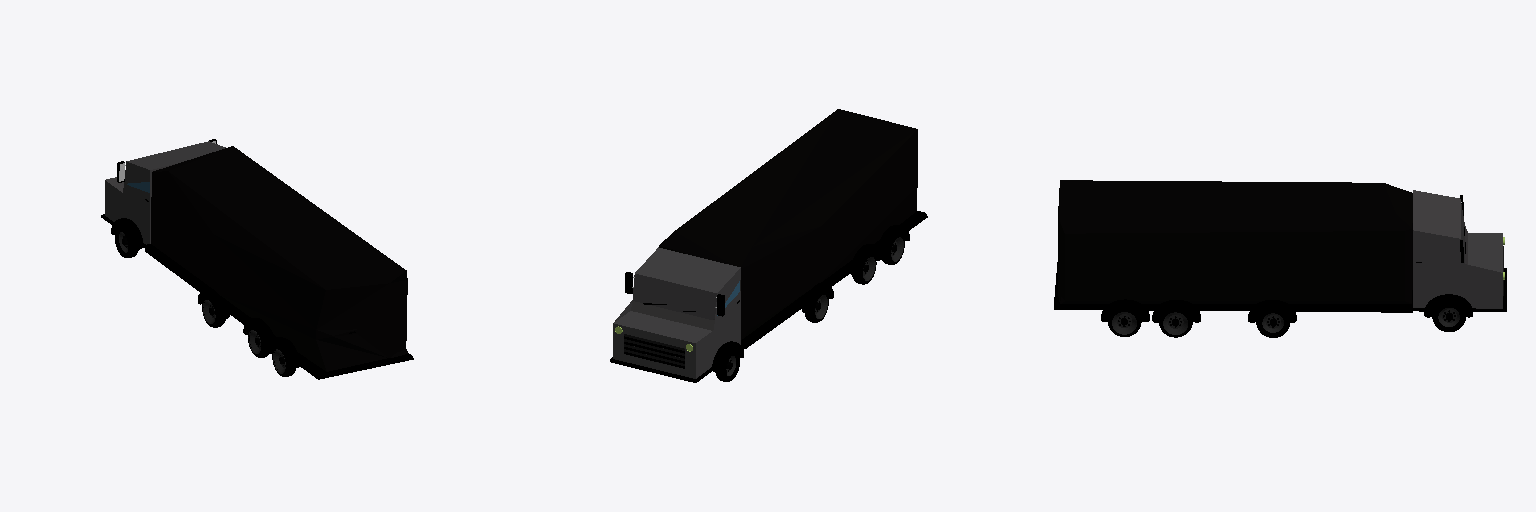
File: tır.obj
3 views of the same model, side by side, from view 1: azimuth 30°, elevation 25°; view 2: azimuth 150°, elevation 25°; view 3: azimuth 270°, elevation 25° (orthographic).
Visible parts, largest first — view 1: Kasa_Cube, Gövde_Cube.001, Cube_Cube.006; view 2: Kasa_Cube, Gövde_Cube.001, Cube_Cube.006, ızgara_Cube.003, Izgara_Boşlu_Cube.004; view 3: Kasa_Cube, Gövde_Cube.001, Cube_Cube.006, Çamurluk.005_Torus.003, Çamurluk.004_Torus.012, Çamurluk.009_Torus.018, Çamurluk.008_Torus.016.
Part boxes in pixels (left/top/right/bottom): Kasa_Cube: left=151, top=146, right=407, bottom=371; Gövde_Cube.001: left=105, top=141, right=225, bottom=244; Cube_Cube.006: left=145, top=244, right=413, bottom=379; Kasa_Cube: left=659, top=109, right=917, bottom=339; Gövde_Cube.001: left=613, top=247, right=740, bottom=378; Cube_Cube.006: left=741, top=211, right=927, bottom=348; ızgara_Cube.003: left=624, top=334, right=684, bottom=365; Izgara_Boşlu_Cube.004: left=624, top=336, right=684, bottom=368; Kasa_Cube: left=1058, top=180, right=1412, bottom=303; Gövde_Cube.001: left=1413, top=190, right=1502, bottom=308; Cube_Cube.006: left=1054, top=262, right=1412, bottom=312; Çamurluk.005_Torus.003: left=1424, top=294, right=1472, bottom=317; Çamurluk.004_Torus.012: left=1248, top=300, right=1296, bottom=322; Çamurluk.009_Torus.018: left=1152, top=300, right=1200, bottom=322; Çamurluk.008_Torus.016: left=1101, top=299, right=1149, bottom=321.
Bounding box in the file's own units: 2.65 × 2.73 × 9.51.